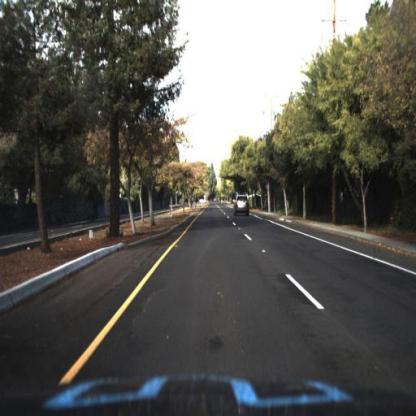car: (233, 194, 252, 219)
